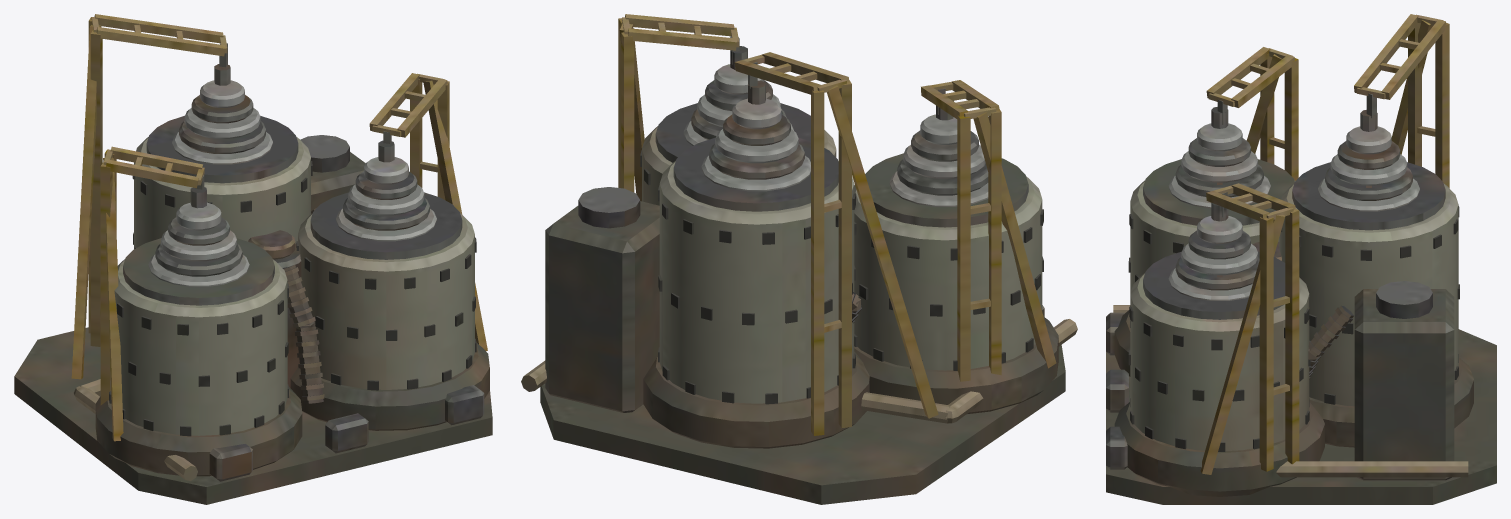
Rendered from centrifuge.glb.
3 views of the same model, side by side, from view 1: azimuth 30°, elevation 25°; view 2: azimuth 150°, elevation 25°; view 3: azimuth 270°, elevation 25° (orthographic). The views are drawn at different scales.
Visible parts, largest first — view 1: body, anim_spin_rotor.002, anim_spin_rotor, anim_spin_rotor.001; view 2: body, anim_spin_rotor, anim_spin_rotor.001, anim_spin_rotor.002; view 3: body, anim_spin_rotor, anim_spin_rotor.002, anim_spin_rotor.001.
Boxes of the visible parts, x1,y1,x2,y2 form: body: (14, 14, 492, 504); anim_spin_rotor.002: (336, 140, 436, 241); anim_spin_rotor: (172, 64, 273, 164); anim_spin_rotor.001: (148, 187, 249, 286); body: (521, 14, 1077, 504); anim_spin_rotor: (701, 80, 810, 191); anim_spin_rotor.001: (889, 100, 988, 206); anim_spin_rotor.002: (683, 46, 793, 145); body: (1106, 14, 1496, 504); anim_spin_rotor: (1318, 110, 1419, 211); anim_spin_rotor.002: (1168, 202, 1259, 300); anim_spin_rotor.001: (1168, 107, 1270, 208).
Size of the model in its own units: 3.07 by 2.78 by 2.75.
1 material, 1 textured.
